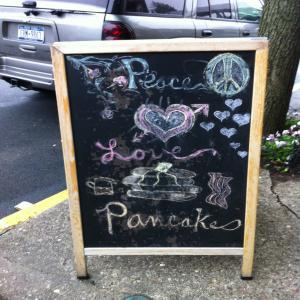Vehicle-registration-plate: (19, 25, 44, 44)
